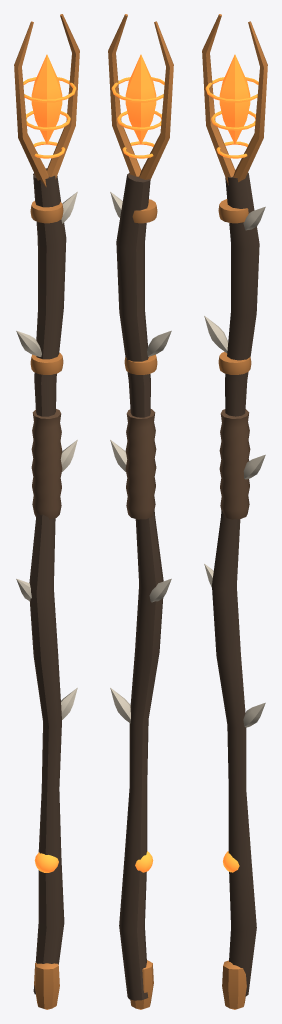
Rendered from asc_ashborn_archmage_weapon.glb.
3 views of the same model, side by side, from view 1: azimuth 30°, elevation 25°; view 2: azimuth 150°, elevation 25°; view 3: azimuth 330°, elevation 25° (orthographic).
Visible parts, largest first — view 1: asc_ashborn_archmage_weapon; view 2: asc_ashborn_archmage_weapon; view 3: asc_ashborn_archmage_weapon.
Boxes of the visible parts, x1=… form: asc_ashborn_archmage_weapon: x1=14, y1=14, x2=79, y2=1009; asc_ashborn_archmage_weapon: x1=108, y1=14, x2=173, y2=1009; asc_ashborn_archmage_weapon: x1=202, y1=14, x2=267, y2=1009.
Size of the model in its own units: 0.1358 by 1.96 by 0.1028.
